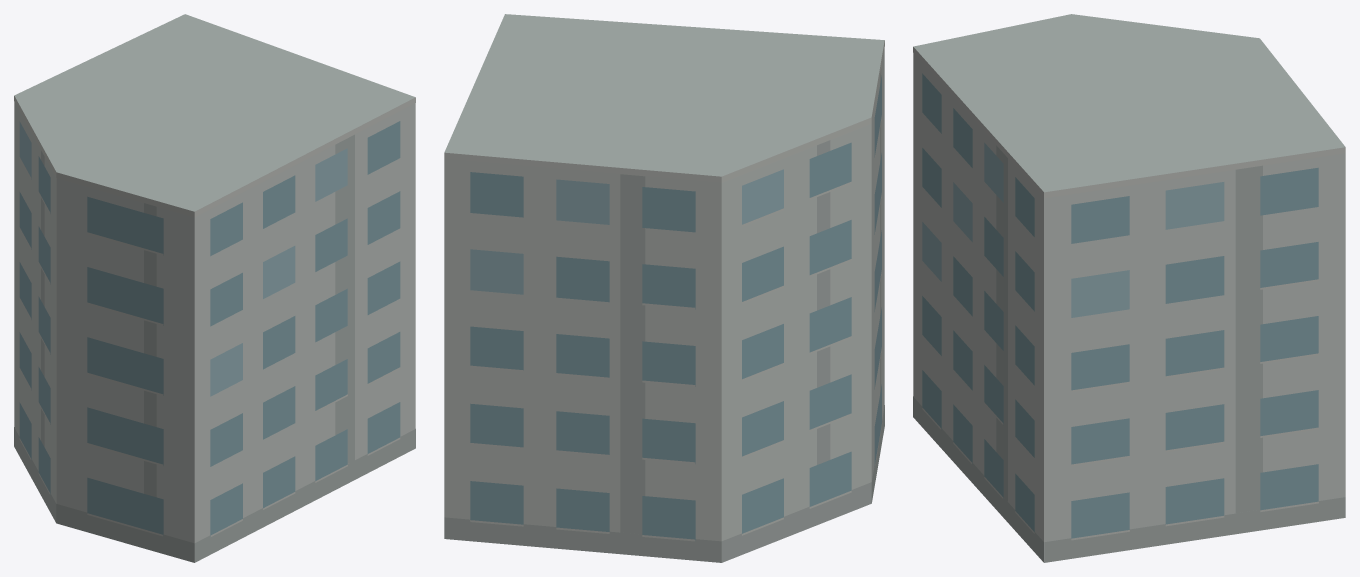
The model's file is survey-upis-32765387.glb.
3 renders of one model, left to right at view 1: azimuth 30°, elevation 25°; view 2: azimuth 150°, elevation 25°; view 3: azimuth 270°, elevation 25°, orthographic. The views are drawn at different scales.
Visible parts, largest first — view 1: survey-upis-32765387.tmp; view 2: survey-upis-32765387.tmp; view 3: survey-upis-32765387.tmp.
Part boxes in pixels (left/top/right/bottom): survey-upis-32765387.tmp: left=14, top=14, right=415, bottom=562; survey-upis-32765387.tmp: left=444, top=14, right=884, bottom=562; survey-upis-32765387.tmp: left=913, top=14, right=1345, bottom=562.
Size of the model in its own units: 15.39 by 14.9 by 15.77.
